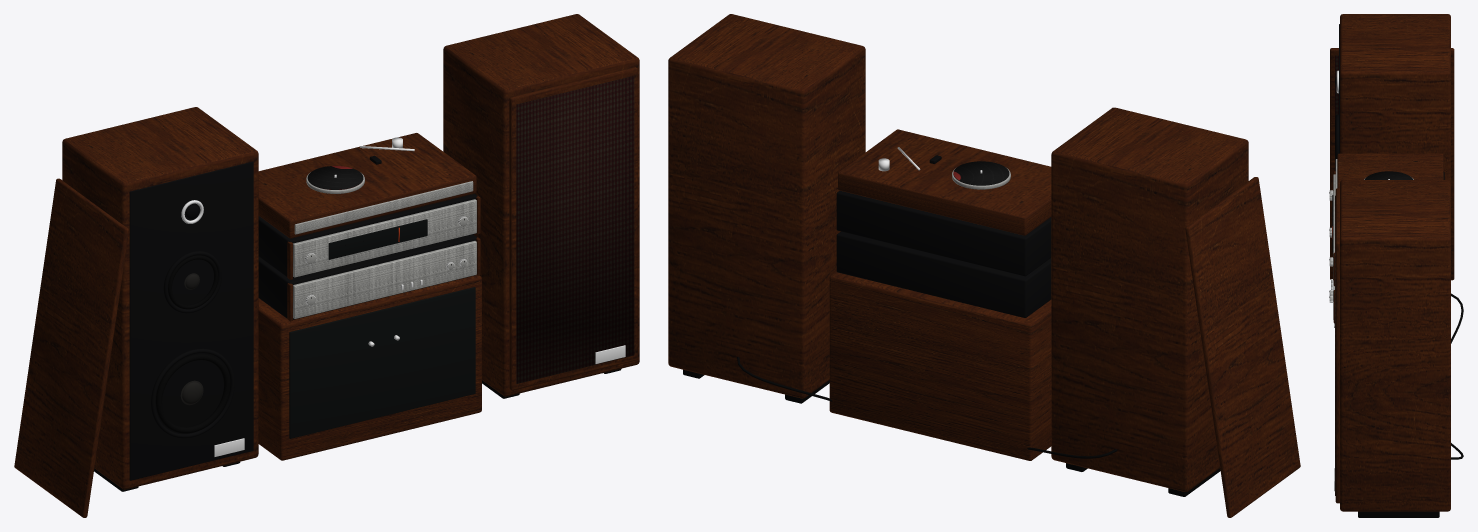
The model's file is party-stereo.glb.
The picture shows the model from 3 angles, left to right: view 1: azimuth 30°, elevation 25°; view 2: azimuth 150°, elevation 25°; view 3: azimuth 270°, elevation 25°; orthographic projection. The views are drawn at different scales.
Parts seen in each view (by area): view 1: Würfel.012, Würfel.003, Würfel.004, Würfel.007, Würfel.017, Würfel, Würfel.014, Würfel.143, Würfel.019, Würfel.011, Würfel.083, Würfel.018 (+8 smaller); view 2: Würfel.007, Würfel, Würfel.014, Würfel.004, Würfel.143, Würfel.018, Würfel.082, Zylinder.008; view 3: Würfel.007, Würfel, Würfel.143, Würfel.004, Würfel.011, Würfel.009, Zylinder.008, Würfel.012, Würfel.005, Würfel.083.
Boxes of the visible parts, x1,y1,x2,y2 form: Würfel.012: (516,76,634,383); Würfel.003: (129,161,253,480); Würfel.004: (14,178,128,517); Würfel.007: (443,14,639,396); Würfel.017: (289,287,475,438); Würfel: (62,107,258,489); Würfel.014: (258,275,481,460); Würfel.143: (258,133,476,238); Würfel.019: (293,241,476,318); Würfel.011: (509,67,637,390); Würfel.083: (293,199,476,277); Würfel.018: (258,234,477,319); Würfel.007: (668,14,865,398); Würfel: (1051,107,1248,491); Würfel.014: (829,271,1051,460); Würfel.004: (1185,177,1300,517); Würfel.143: (838,129,1051,235); Würfel.018: (836,231,1051,317); Würfel.082: (836,190,1051,276); Zylinder.008: (953,161,1009,185); Würfel.007: (1340,180,1450,511); Würfel: (1340,14,1450,181); Würfel.143: (1337,153,1443,188); Würfel.004: (1330,48,1454,280); Würfel.011: (1335,188,1339,503); Würfel.009: (1358,511,1439,517); Zylinder.008: (1364,171,1413,179); Würfel.012: (1335,195,1335,495); Würfel.005: (1335,55,1338,171); Würfel.083: (1333,174,1335,282).
Bounding box in the file's own units: 3.55 × 1.93 × 0.822.
Materials: 11 (4 with a texture image).
